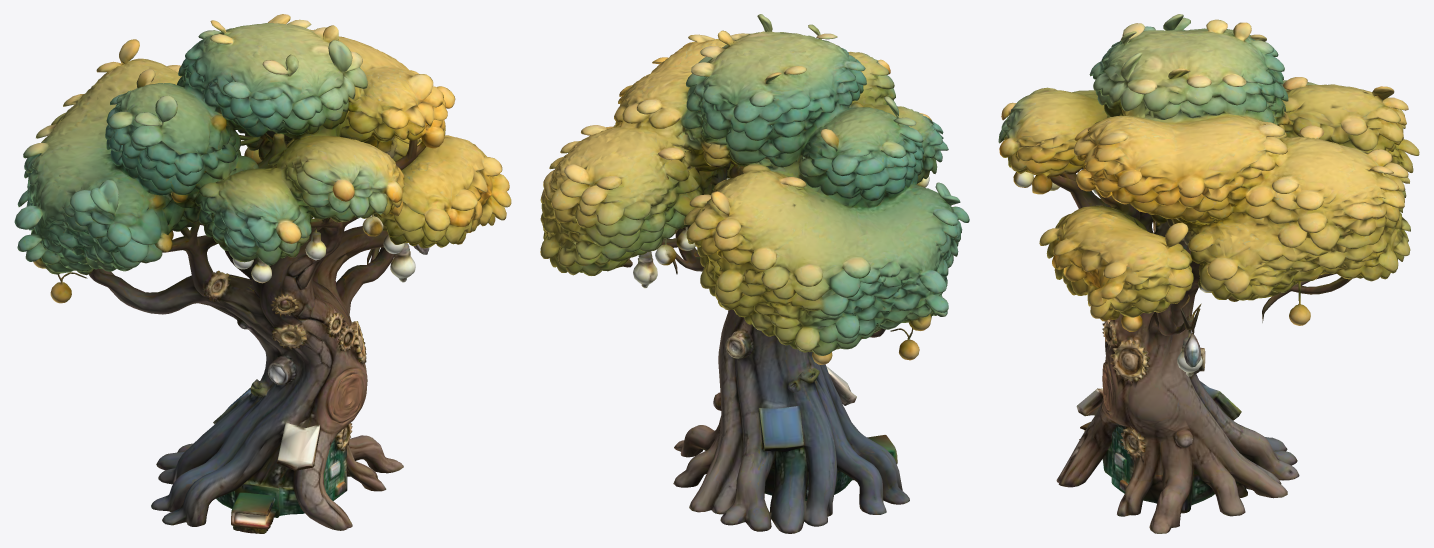
File: sakaay-avatar.glb
3 views of the same model, side by side, from view 1: azimuth 30°, elevation 25°; view 2: azimuth 150°, elevation 25°; view 3: azimuth 270°, elevation 25° (orthographic). The views are drawn at different scales.
Parts seen in each view (by area): view 1: node_0; view 2: node_0; view 3: node_0.
Part boxes in pixels (left/top/right/bottom): node_0: left=14, top=14, right=511, bottom=533; node_0: left=540, top=14, right=969, bottom=533; node_0: left=998, top=14, right=1419, bottom=533.
Bounding box in the file's own units: 0.9755 × 1.02 × 0.8753.
1 material, 1 textured.
